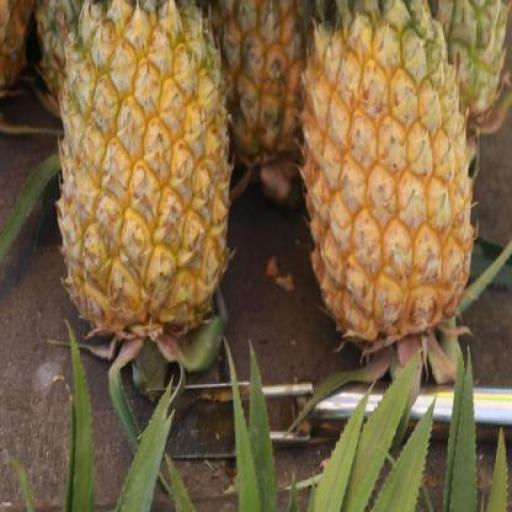Pineapple - v8 v1: (54, 0, 229, 342), (301, 11, 474, 350)
